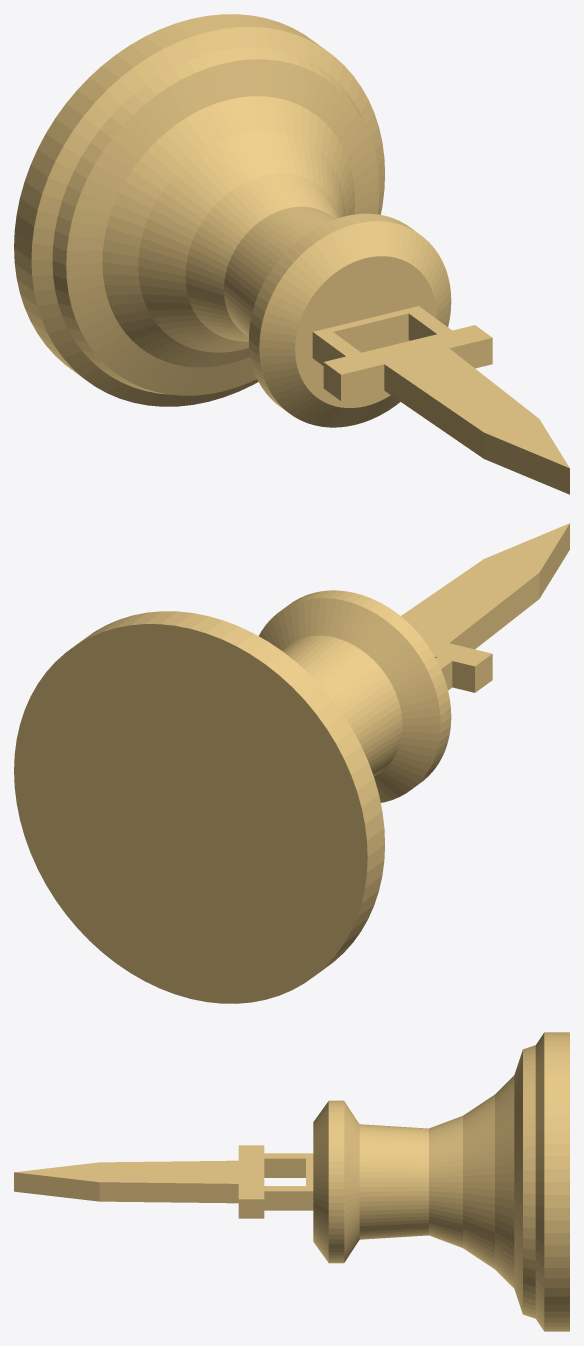
The model's file is chara_surya.glb.
3 renders of one model, top to bottom at view 1: azimuth 30°, elevation 25°; view 2: azimuth 150°, elevation 25°; view 3: azimuth 270°, elevation 25°, orthographic. The views are drawn at different scales.
Visible parts, largest first — view 1: geometry_0; view 2: geometry_0; view 3: geometry_0.
Boxes of the visible parts, x1=… form: geometry_0: x1=14, y1=14, x2=569, y2=494; geometry_0: x1=14, y1=523, x2=569, y2=1003; geometry_0: x1=14, y1=1032, x2=569, y2=1331.
Size of the model in its own units: 0.028 by 0.028 by 0.052.
